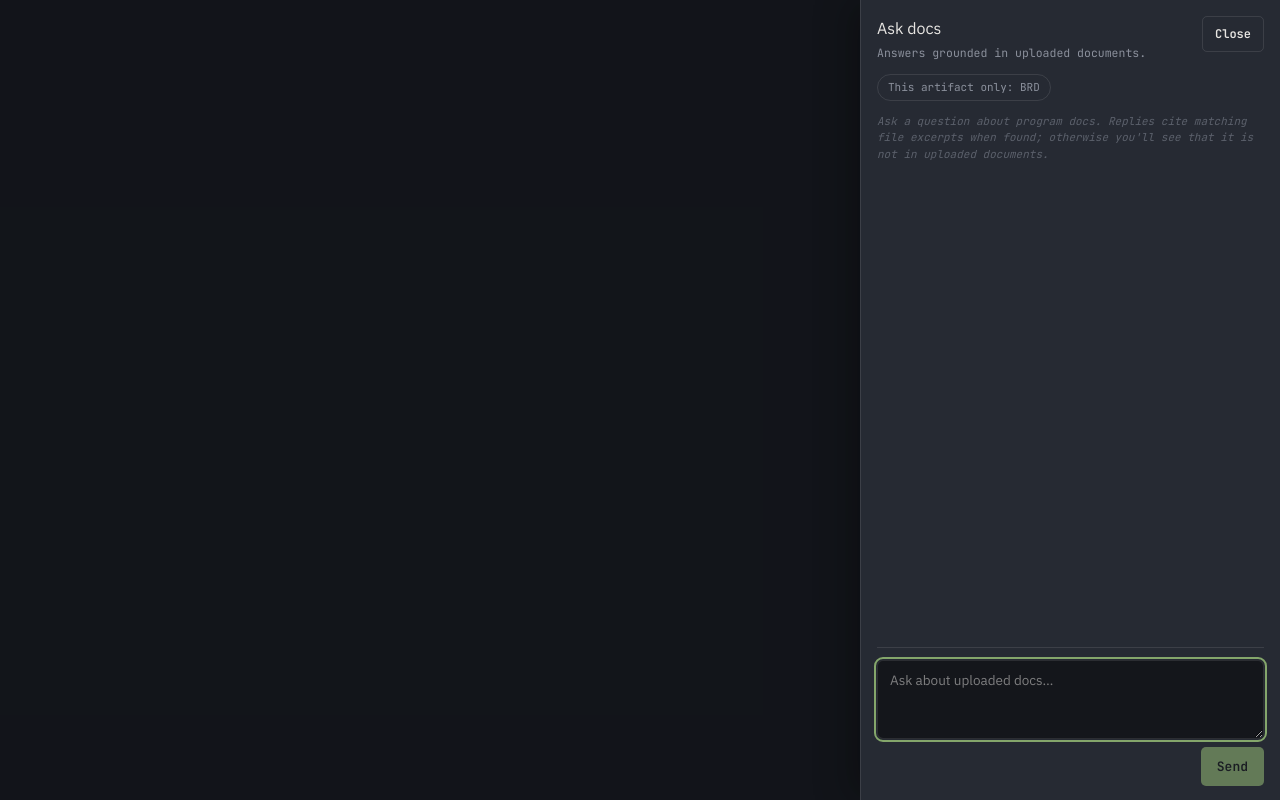
Test: ChatPanel › shows artifact scope chip and sends scoped chat request when enabled
Step 1. Click the button "This artifact only: BRD" → (964, 88), box left=877, top=74, right=1051, bottom=101
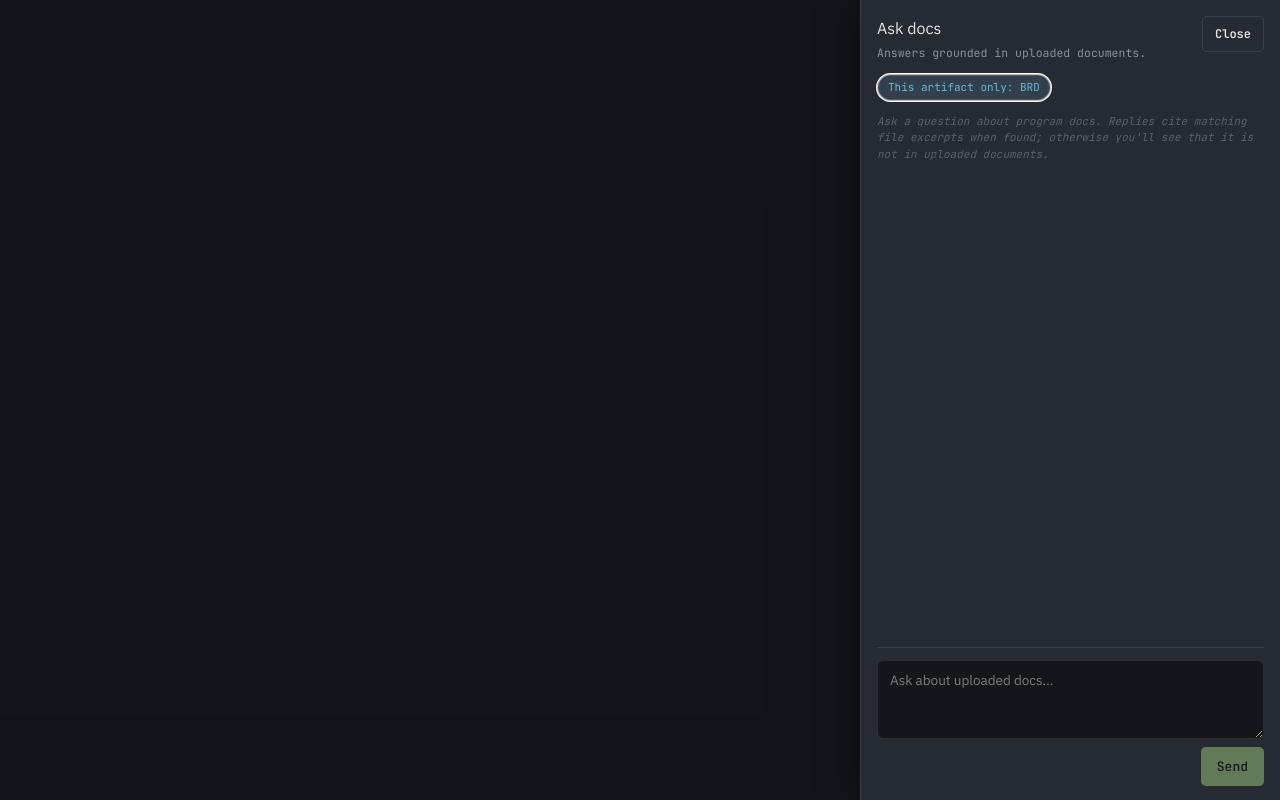
Expected: the button "This artifact only: BRD" is pressed, left=877, top=74, right=1051, bottom=101
Step 2. Type "What is in the BRD?" into the text box named "message" → (1070, 699), box left=877, top=660, right=1264, bottom=738
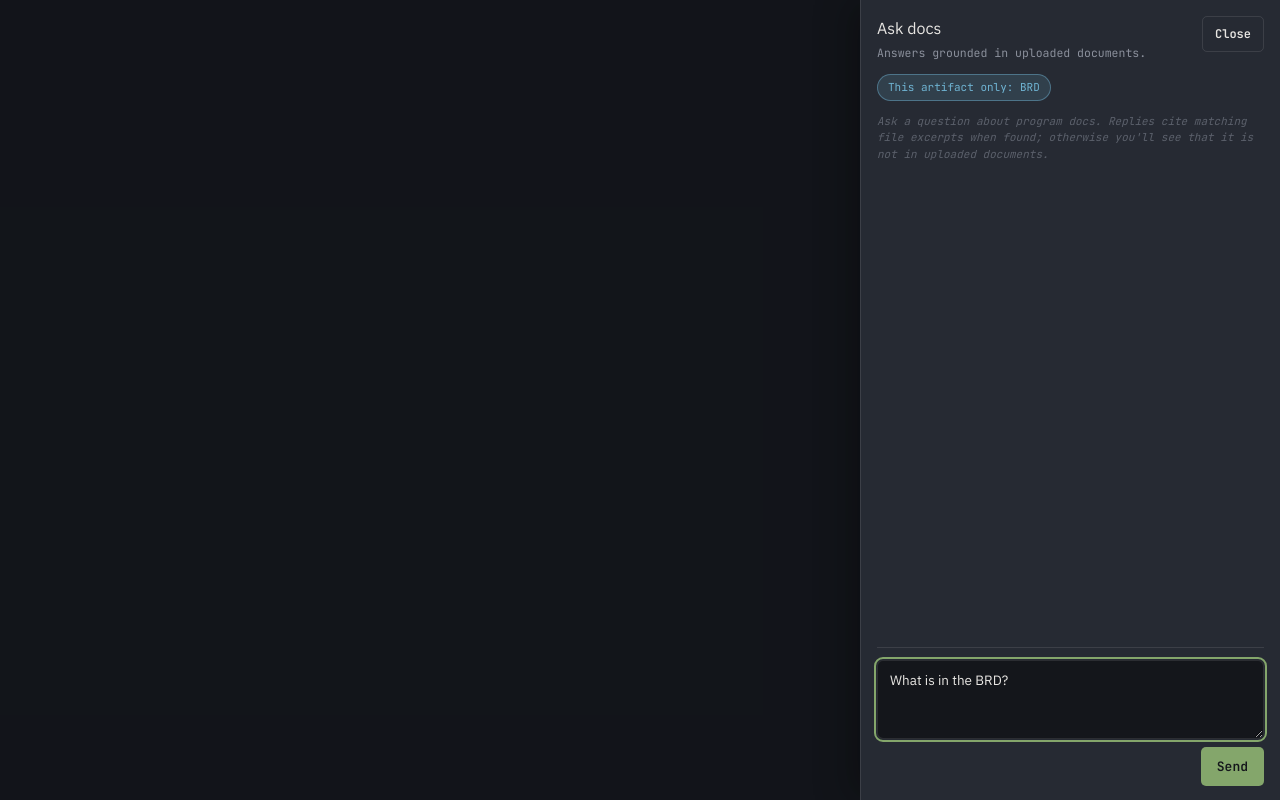
Step 3. Click the button "Send" → (1232, 766), box left=1201, top=746, right=1264, bottom=786
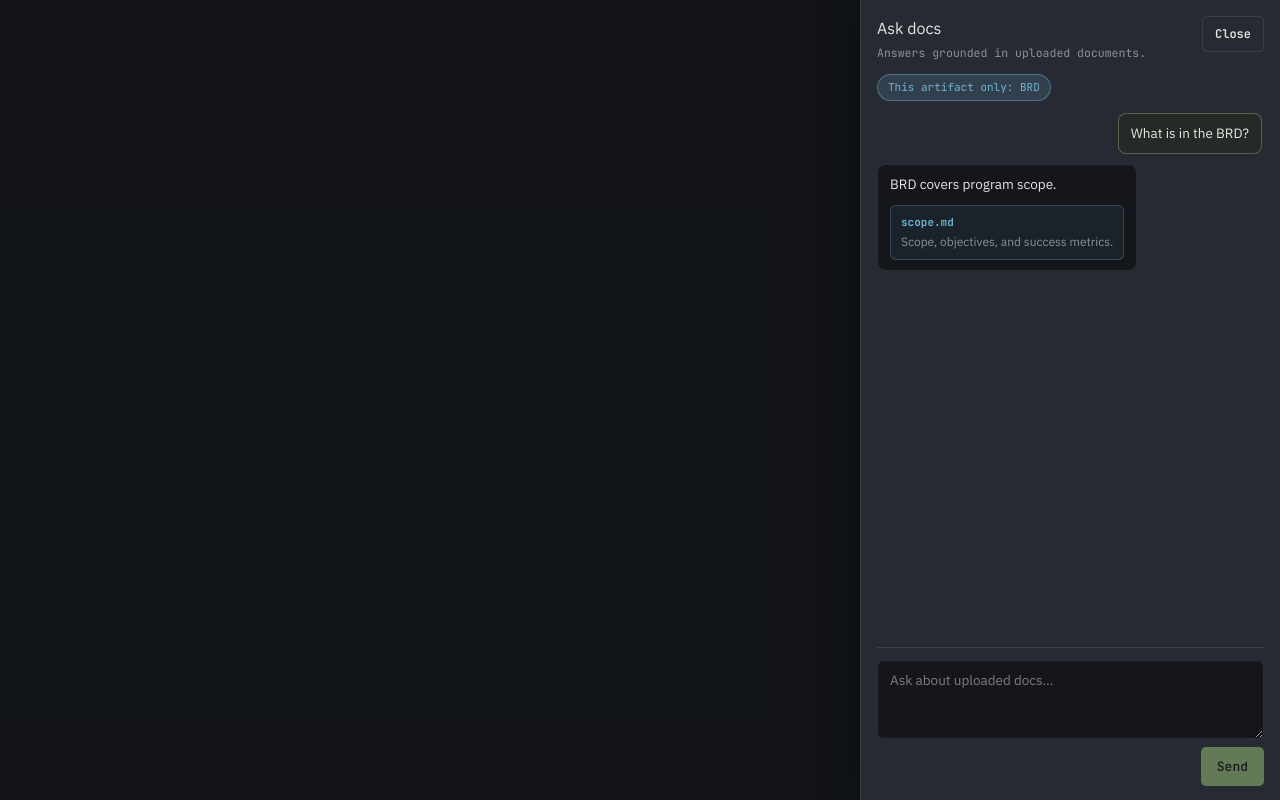
Expected: the text "BRD covers program scope." is shown, left=890, top=175, right=1056, bottom=193
Expected: the text "scope.md" is shown, left=901, top=215, right=954, bottom=229
Expected: the text "Scope, objectives, and success metrics." is shown, left=901, top=234, right=1113, bottom=251
